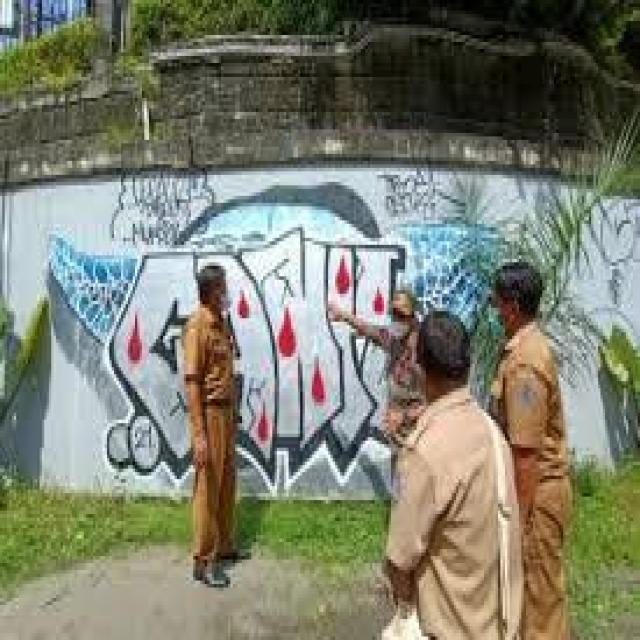nonspitting: (49, 178, 521, 498), (128, 172, 186, 244), (384, 171, 438, 221)
